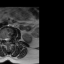CCS_normal: (6, 36, 8, 44)
LFS_severe_stenosis: (9, 36, 11, 41)
LLS_stenosis: (8, 36, 9, 43)
RFS_stenosis: (2, 36, 4, 42)
RLS_stenosis: (4, 36, 6, 42)
